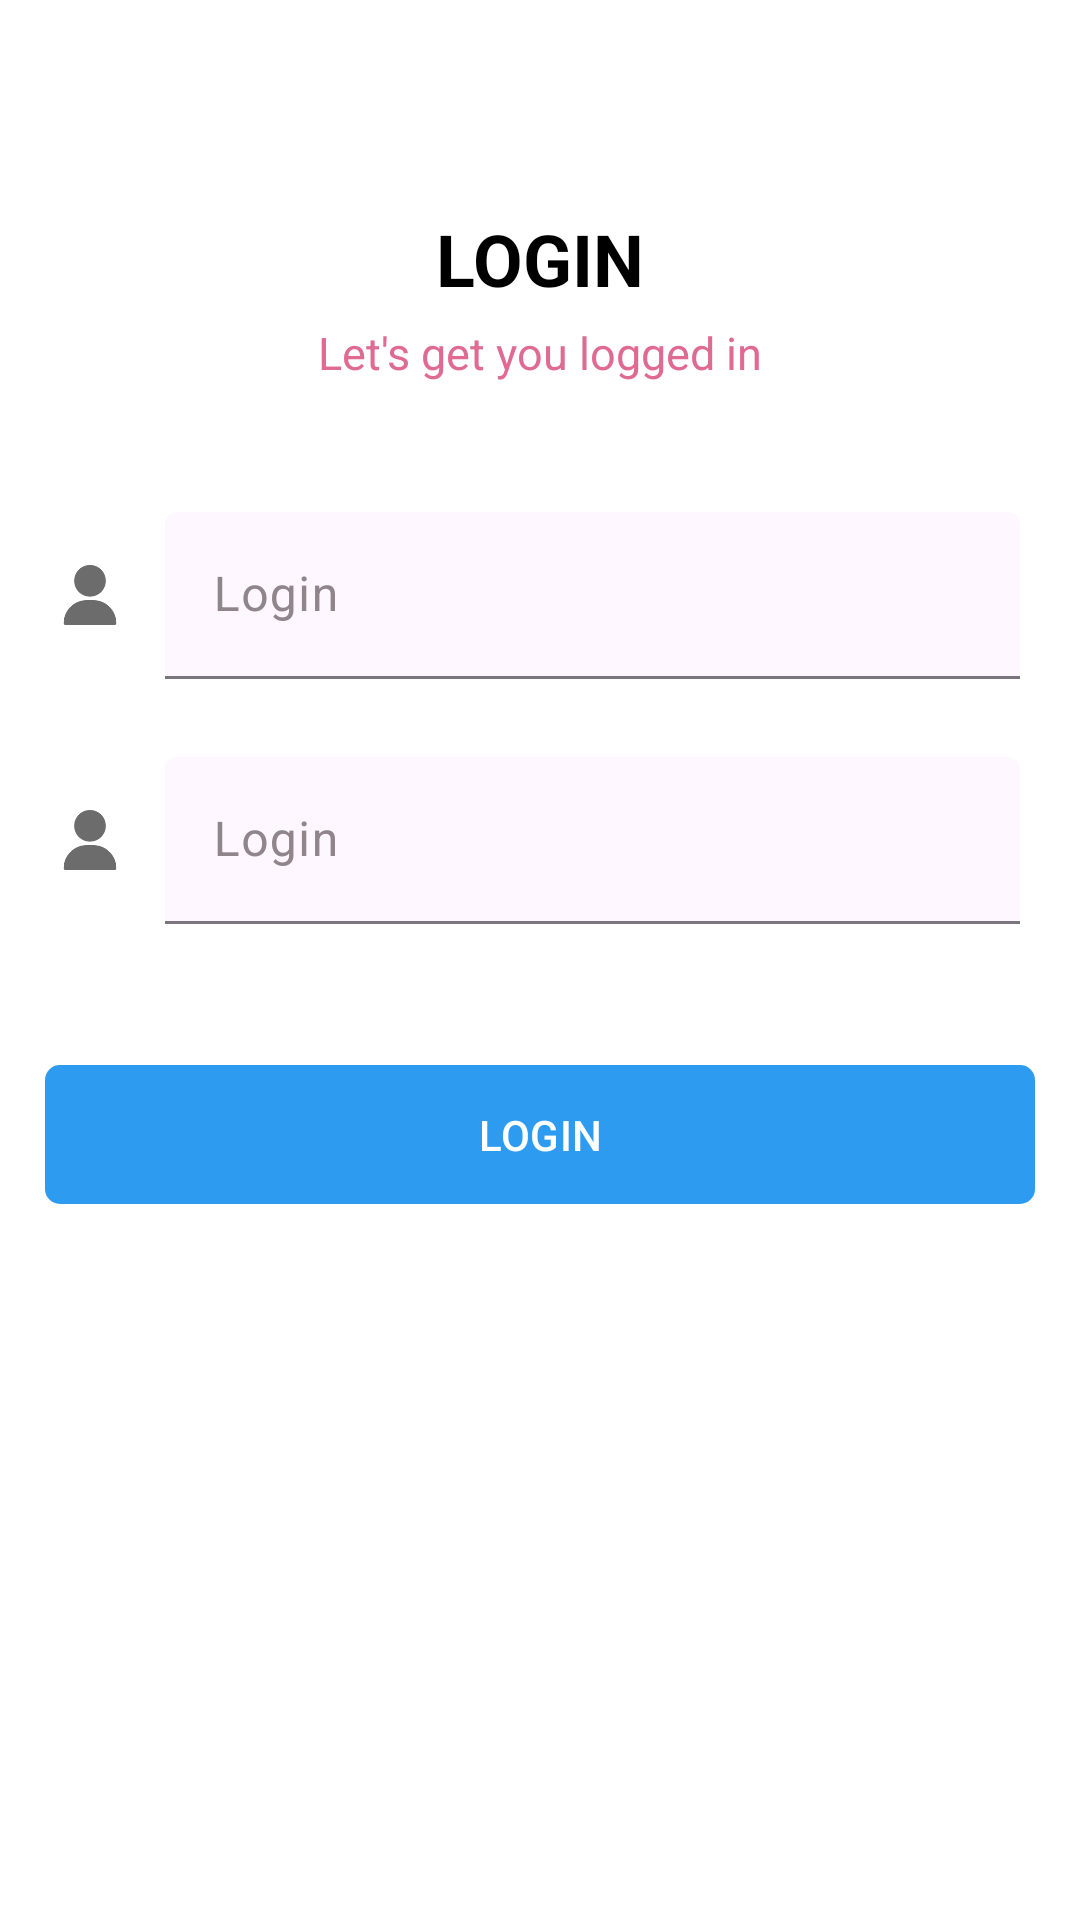

Named icons in this screenshot (1080 × 1920) and their bounding boxes, (x1, y1, x2, y2):
user: (63, 565, 116, 625), (63, 810, 116, 870)
